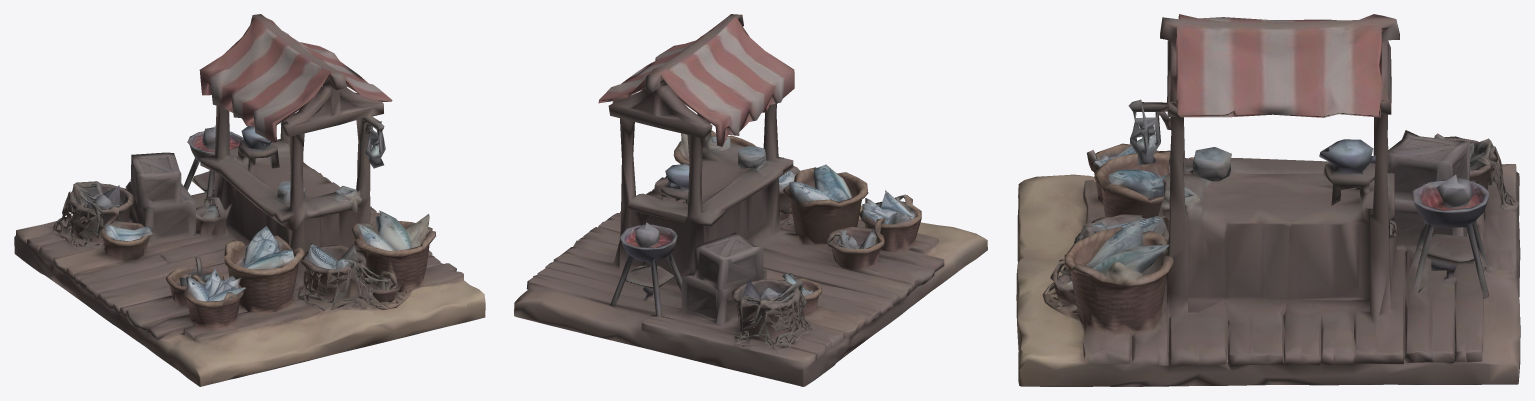
File: waterfront_baskets.glb
3 renders of one model, left to right at view 1: azimuth 30°, elevation 25°; view 2: azimuth 150°, elevation 25°; view 3: azimuth 270°, elevation 25°, orthographic. The views are drawn at different scales.
Parts seen in each view (by area): view 1: tripo_node_a0194428-3edf-427e-a183-a1d1c5c79f4b; view 2: tripo_node_a0194428-3edf-427e-a183-a1d1c5c79f4b; view 3: tripo_node_a0194428-3edf-427e-a183-a1d1c5c79f4b.
Boxes of the visible parts, x1,y1,x2,y2 form: tripo_node_a0194428-3edf-427e-a183-a1d1c5c79f4b: [14, 14, 485, 386]; tripo_node_a0194428-3edf-427e-a183-a1d1c5c79f4b: [514, 14, 987, 386]; tripo_node_a0194428-3edf-427e-a183-a1d1c5c79f4b: [1016, 14, 1520, 386].
Size of the model in its own units: 0.9209 by 0.6773 by 1.
1 material, 1 textured.
